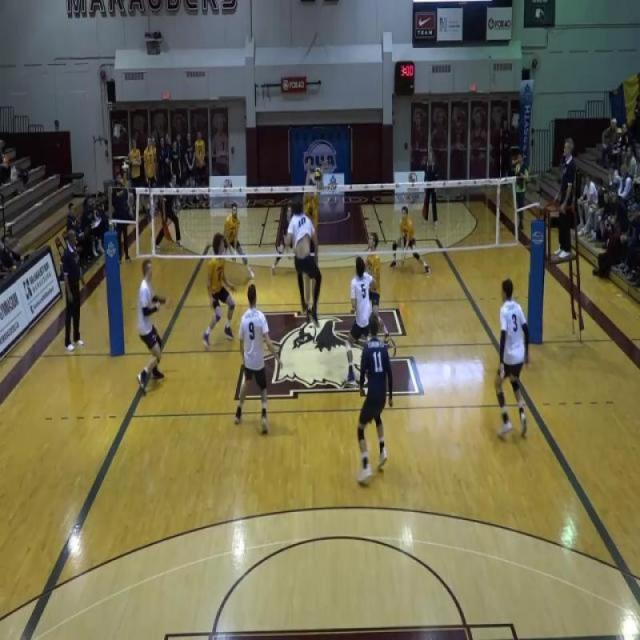volleyball: (313, 166, 322, 182)
